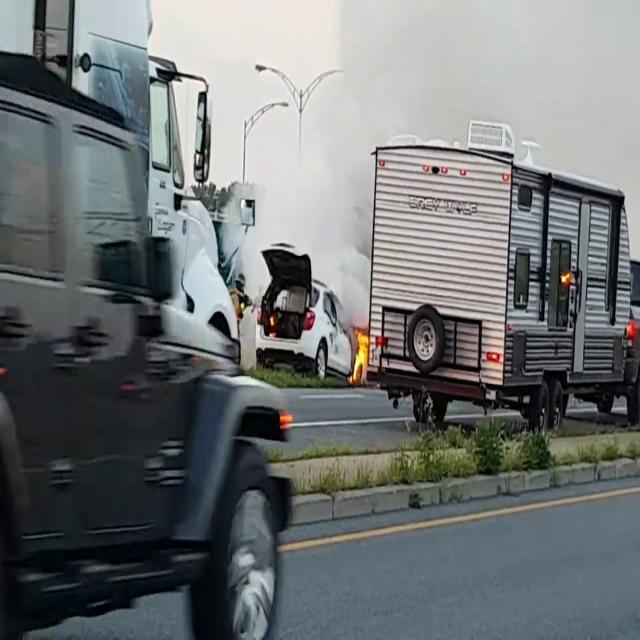Fire: (350, 322, 372, 384)
Smoke: (240, 3, 380, 297)
